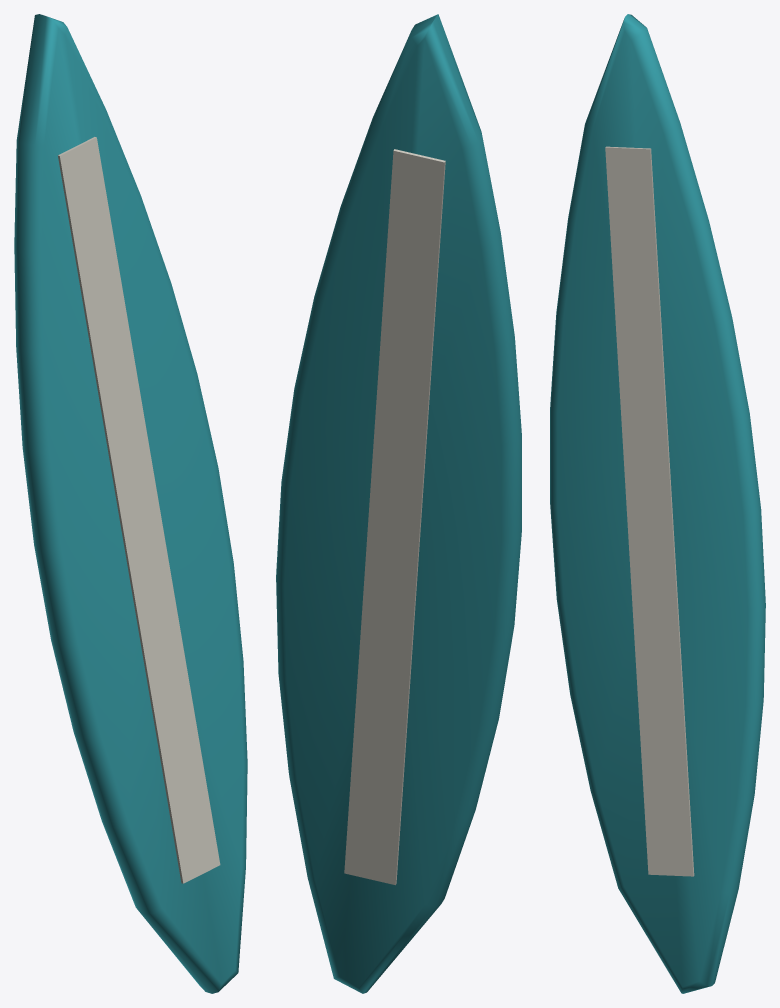
Rendered from surfboard-a.glb.
The picture shows the model from 3 angles, left to right: view 1: azimuth 30°, elevation 25°; view 2: azimuth 150°, elevation 25°; view 3: azimuth 330°, elevation 25°; orthographic projection. The views are drawn at different scales.
Parts seen in each view (by area): view 1: surfboard-a; view 2: surfboard-a; view 3: surfboard-a.
Part boxes in pixels (x1=…): surfboard-a: x1=14, y1=14, x2=247, y2=993; surfboard-a: x1=276, y1=14, x2=521, y2=993; surfboard-a: x1=550, y1=14, x2=765, y2=993.
Bounding box in the file's own units: 0.4991 × 2.13 × 0.2757.
